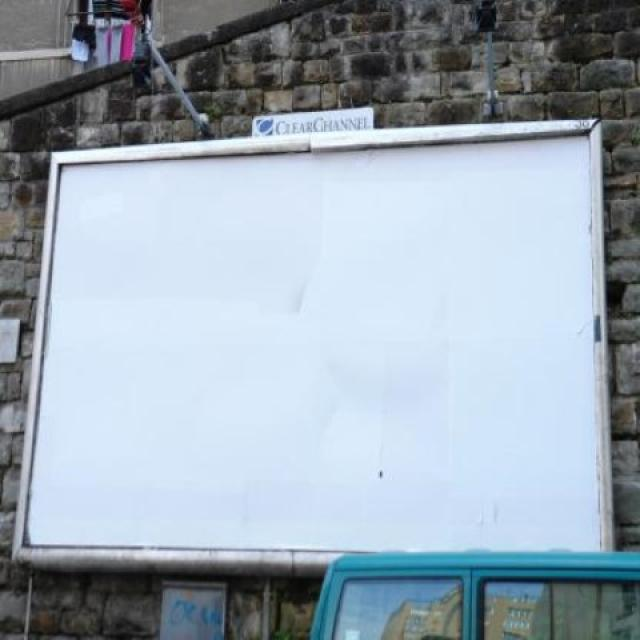White-board: (26, 126, 605, 551)
